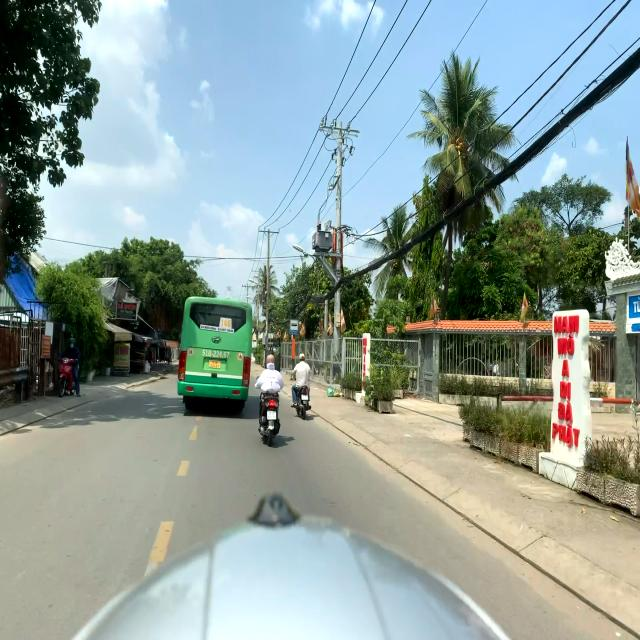R.434: (290, 319, 298, 334)
